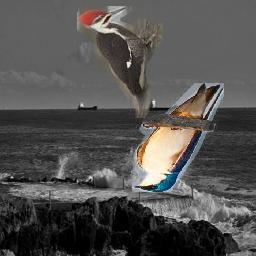Swallow: (132, 84, 224, 193)
Woodpecker: (77, 6, 163, 118)
